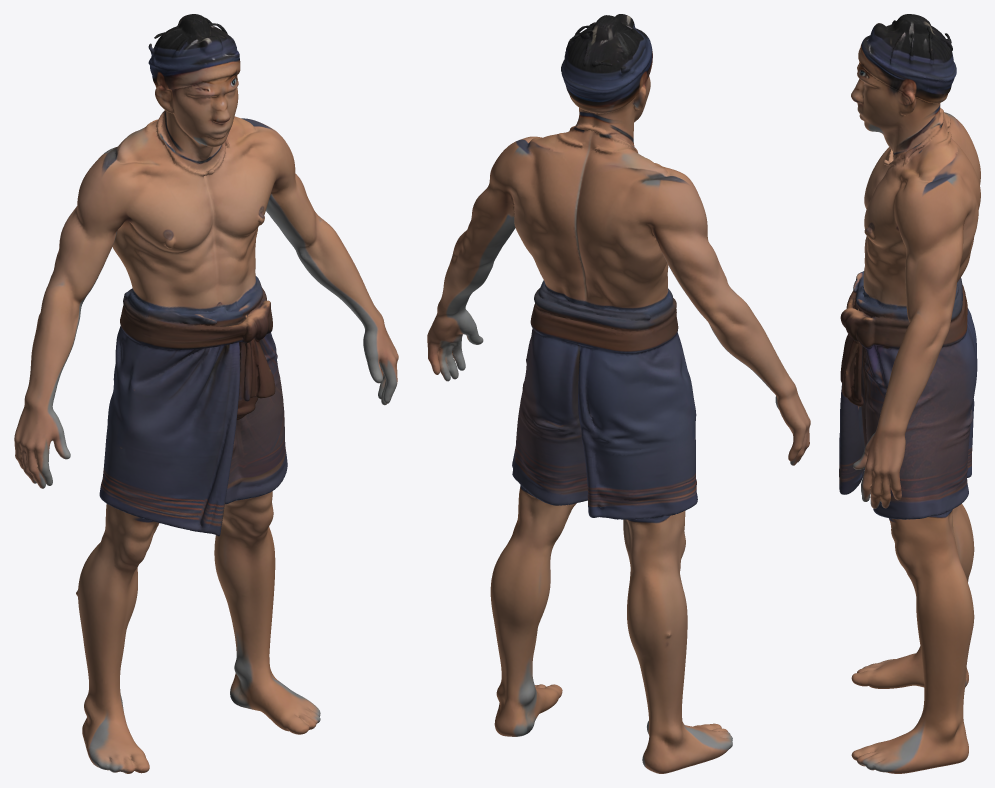
File: prajurit-tripo.glb
3 renders of one model, left to right at view 1: azimuth 30°, elevation 25°; view 2: azimuth 150°, elevation 25°; view 3: azimuth 270°, elevation 25°, orthographic.
Visible parts, largest first — view 1: tripo_node_2972fd5b-06eb-4708-accf-44a7b481f9da; view 2: tripo_node_2972fd5b-06eb-4708-accf-44a7b481f9da; view 3: tripo_node_2972fd5b-06eb-4708-accf-44a7b481f9da.
Part boxes in pixels (x1,y1,x2,y2): tripo_node_2972fd5b-06eb-4708-accf-44a7b481f9da: [14, 14, 398, 773]; tripo_node_2972fd5b-06eb-4708-accf-44a7b481f9da: [427, 14, 810, 773]; tripo_node_2972fd5b-06eb-4708-accf-44a7b481f9da: [839, 14, 980, 773].
Bounding box in the file's own units: 0.5494 × 1 × 0.1814.
1 material, 1 textured.
